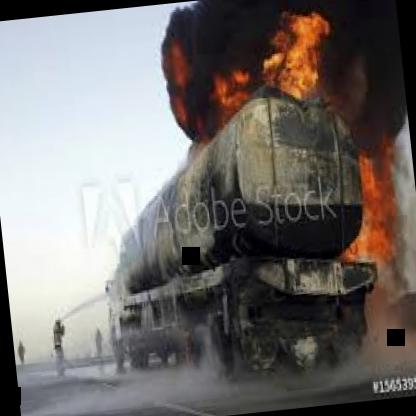fire: (175, 0, 406, 199)
